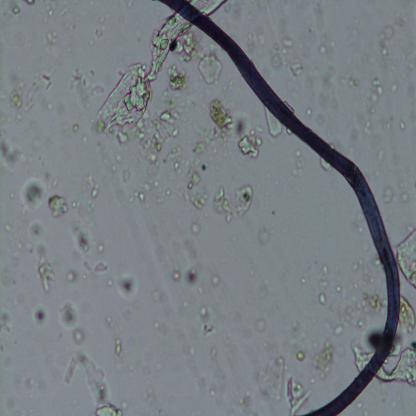Background material: (140, 64, 186, 160), (64, 352, 122, 415), (340, 286, 380, 367), (261, 358, 310, 414), (166, 144, 210, 206), (192, 96, 232, 158), (8, 70, 53, 124), (391, 292, 416, 381), (264, 32, 304, 77), (233, 113, 263, 164), (212, 184, 253, 221), (394, 228, 416, 288), (57, 297, 84, 345), (70, 68, 102, 104), (18, 174, 48, 212), (34, 244, 56, 290), (310, 342, 336, 379), (0, 138, 25, 174), (173, 32, 201, 63), (366, 74, 386, 117), (197, 51, 223, 84), (72, 226, 94, 262), (46, 191, 72, 219), (378, 19, 394, 60), (116, 272, 139, 300), (82, 172, 102, 204), (262, 115, 284, 142), (198, 305, 215, 338), (62, 266, 82, 286), (126, 187, 150, 202), (32, 305, 49, 325), (185, 264, 198, 288), (382, 185, 394, 206), (93, 260, 110, 274), (113, 336, 124, 356), (316, 260, 331, 274), (44, 30, 59, 44), (190, 221, 203, 237), (316, 293, 329, 306), (211, 272, 221, 287)
Cellulose filter fibre: (95, 0, 223, 128)
Microfibre: (166, 0, 400, 414)
